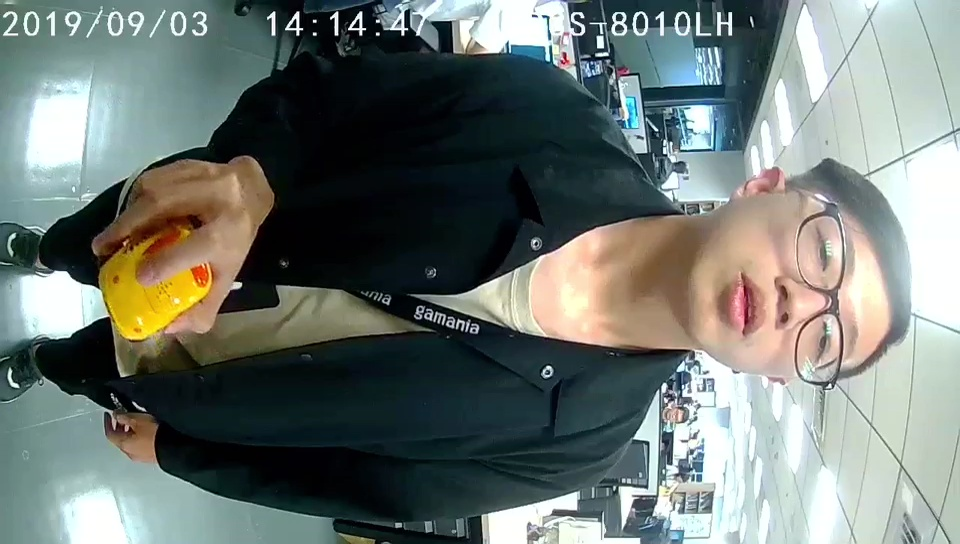car: (100, 223, 209, 340)
